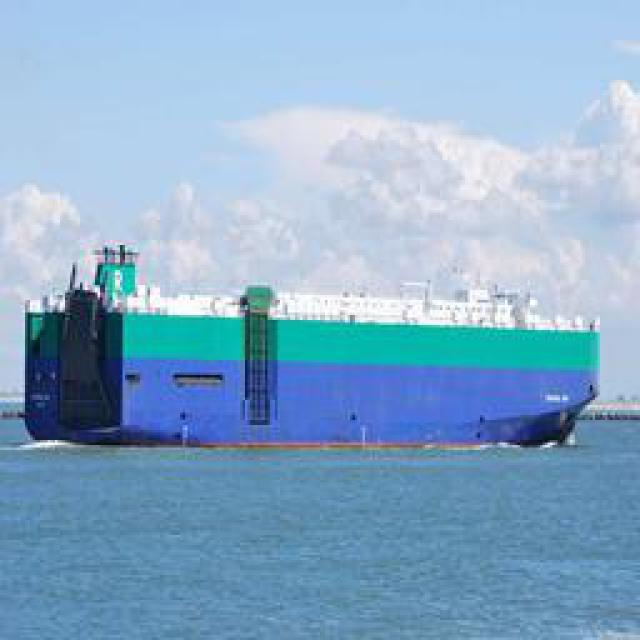Ship: (23, 247, 601, 457)
